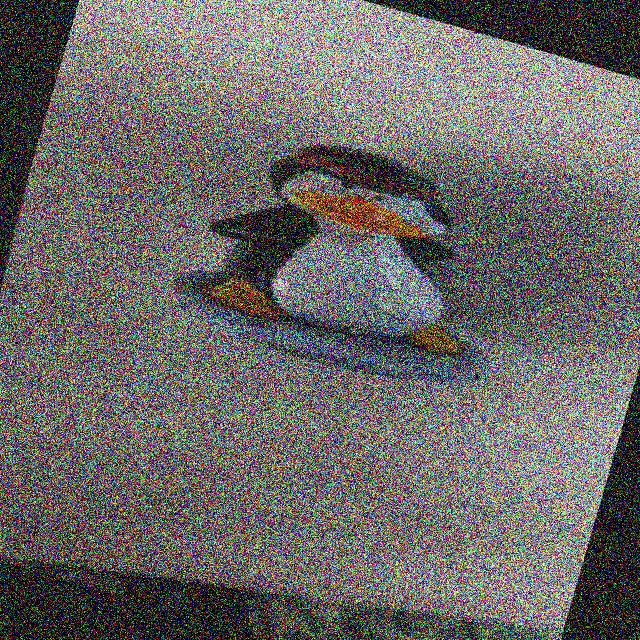Penguin: (118, 75, 567, 448)
